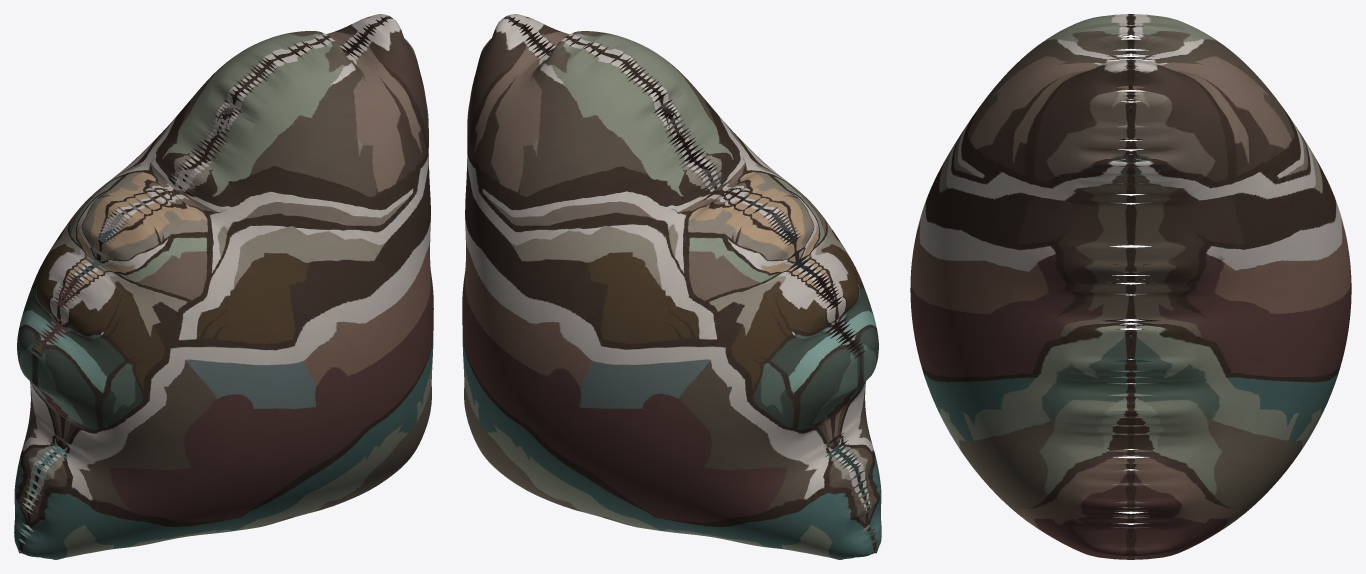
The model's file is cliff_section.glb.
3 views of the same model, side by side, from view 1: azimuth 30°, elevation 25°; view 2: azimuth 150°, elevation 25°; view 3: azimuth 270°, elevation 25° (orthographic). The views are drawn at different scales.
Parts seen in each view (by area): view 1: cliff_section; view 2: cliff_section; view 3: cliff_section.
Boxes of the visible parts, <box> form: cliff_section: <box>14,14,433,559</box>; cliff_section: <box>462,14,881,559</box>; cliff_section: <box>910,14,1351,559</box>.
Size of the model in its own units: 0.9874 by 1.08 by 0.8262.
1 material, 1 textured.
